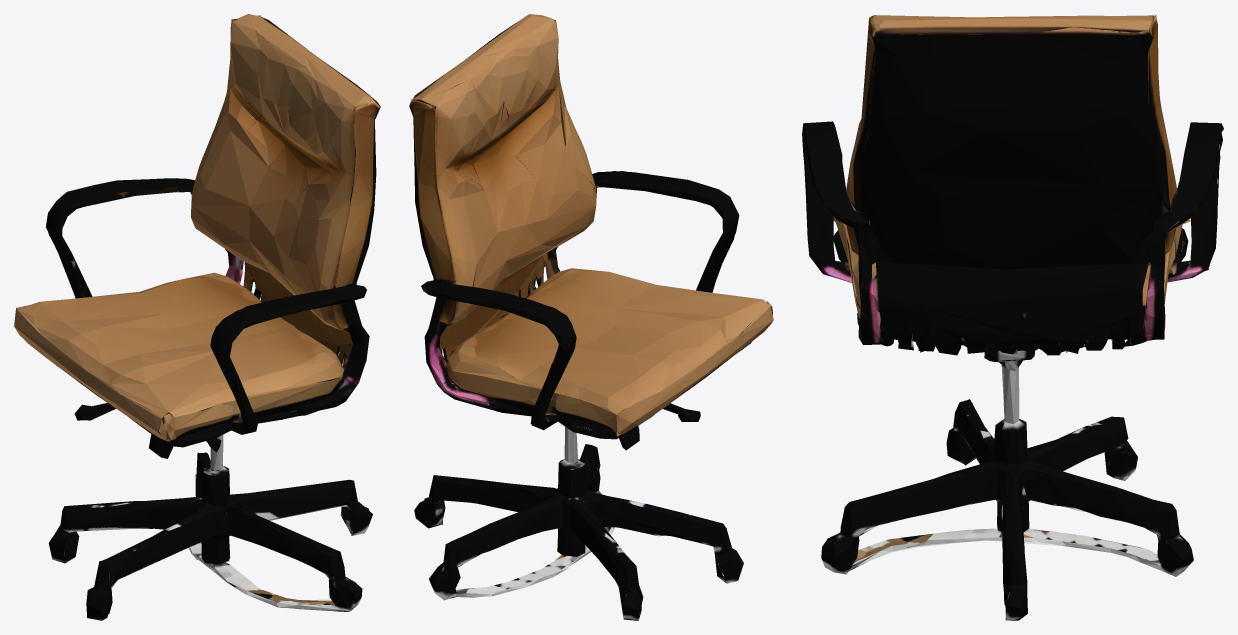
Rendered from officechair-hy3d.glb.
3 views of the same model, side by side, from view 1: azimuth 30°, elevation 25°; view 2: azimuth 150°, elevation 25°; view 3: azimuth 270°, elevation 25° (orthographic). The views are drawn at different scales.
Visible parts, largest first — view 1: temp_mesh.ply; view 2: temp_mesh.ply; view 3: temp_mesh.ply.
Part boxes in pixels (left/top/right/bottom): temp_mesh.ply: left=14, top=14, right=380, bottom=620; temp_mesh.ply: left=409, top=14, right=773, bottom=620; temp_mesh.ply: left=802, top=14, right=1223, bottom=620.
Size of the model in its own units: 1.31 by 2 by 1.33.
Materials: 1 (1 with a texture image).
